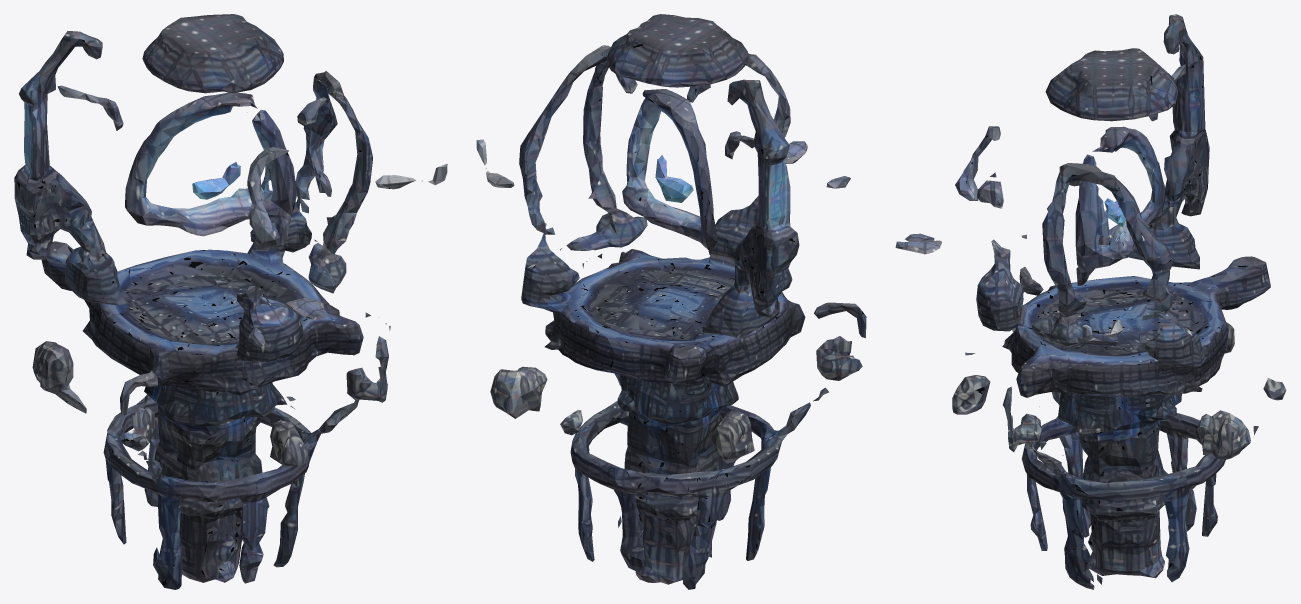
File: nexus_5.glb
3 views of the same model, side by side, from view 1: azimuth 30°, elevation 25°; view 2: azimuth 150°, elevation 25°; view 3: azimuth 270°, elevation 25° (orthographic). The views are drawn at different scales.
Visible parts, largest first — view 1: test (7); view 2: test (7); view 3: test (7).
Part boxes in pixels (<box>): test (7): <box>14,14,447,589</box>; test (7): <box>476,14,866,589</box>; test (7): <box>895,14,1286,589</box>.
Bounding box in the file's own units: 2.94 × 4.08 × 2.85.
1 material, 1 textured.
